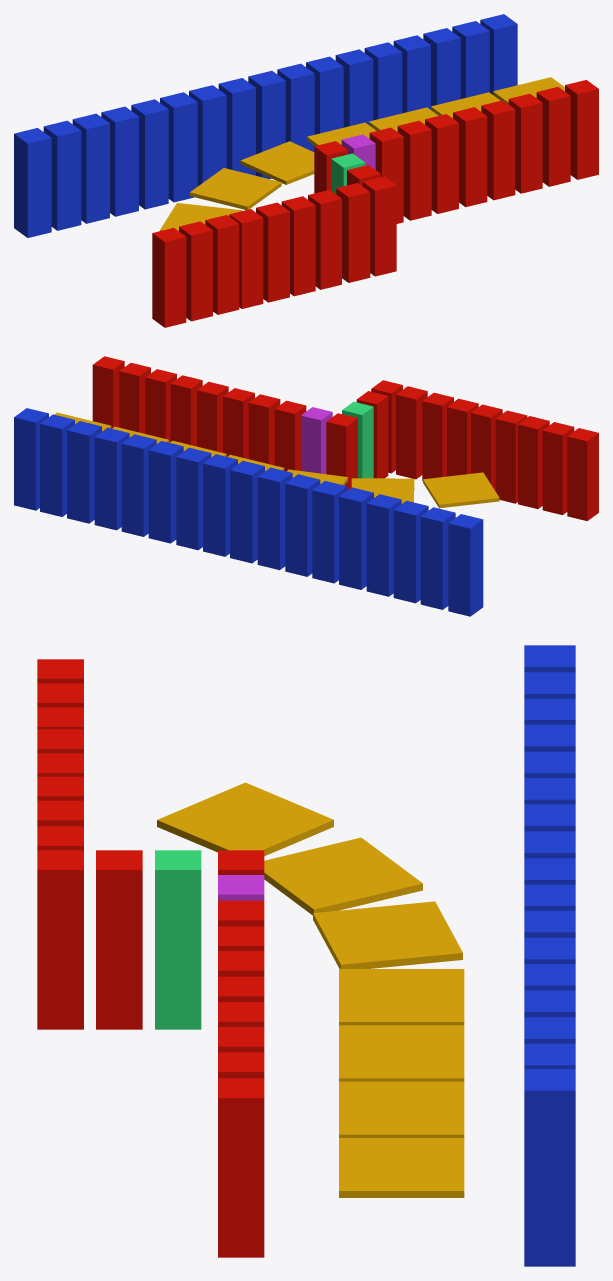
The picture shows the model from 3 angles, top to bottom: view 1: azimuth 30°, elevation 25°; view 2: azimuth 150°, elevation 25°; view 3: azimuth 270°, elevation 25°; orthographic projection. The views are drawn at different scales.
Visible parts, largest first — view 1: Cube.033, Cube.032, Cube.044, Cube.029, Cube.028, Cube.031, Cube.030, Cube.010, Cube.013, Cube.037, Cube.011, Cube.008 (+33 smaller); view 2: Cube.033, Cube.032, Cube.026, Cube.022, Cube.044, Cube.029, Cube.025, Cube.027, Cube.030, Cube.031, Cube.020, Cube.021 (+29 smaller); view 3: Cube.017, Cube.007, mat1, Cube.035, Cube.036, Cube.004, Cube.005, Cube.006, Cube, Cube.002, Cube.001, Cube.003 (+33 smaller).
Boxes of the visible parts, box(x1,y1,x2,y2) form: Cube.033: box(14, 128, 51, 237); Cube.032: box(43, 120, 81, 230); Cube.044: box(152, 228, 186, 327); Cube.029: box(131, 99, 168, 209); Cube.028: box(160, 92, 197, 202); Cube.031: box(72, 113, 109, 223); Cube.030: box(101, 106, 138, 216); Cube.010: box(481, 100, 515, 200); Cube.013: box(397, 120, 431, 220); Cube.037: box(336, 183, 370, 282); Cube.011: box(453, 107, 487, 207); Cube.008: box(536, 87, 570, 186); Cube.033: box(448, 514, 483, 616); Cube.032: box(420, 507, 455, 609); Cube.026: box(257, 467, 292, 570); Cube.022: box(148, 441, 183, 543); Cube.044: box(567, 428, 598, 521); Cube.029: box(339, 487, 373, 589); Cube.025: box(230, 461, 264, 563); Cube.027: box(285, 474, 320, 576); Cube.030: box(366, 494, 401, 596); Cube.031: box(393, 500, 428, 603); Cube.020: box(94, 427, 129, 530); Cube.021: box(121, 434, 156, 536); Cube.017: box(524, 1069, 575, 1266); Cube.007: box(218, 1078, 264, 1257); mat1: box(155, 850, 201, 1029); Cube.035: box(96, 850, 142, 1029); Cube.036: box(37, 850, 83, 1029); Cube.004: box(313, 901, 462, 968); Cube.005: box(264, 837, 422, 915); Cube.006: box(157, 782, 333, 856); Cube: box(339, 1138, 464, 1197); Cube.002: box(339, 1025, 464, 1081); Cube.001: box(339, 1081, 464, 1137); Cube.003: box(339, 969, 464, 1025).
Size of the model in its own units: 17.43 by 3.1 by 8.59.
